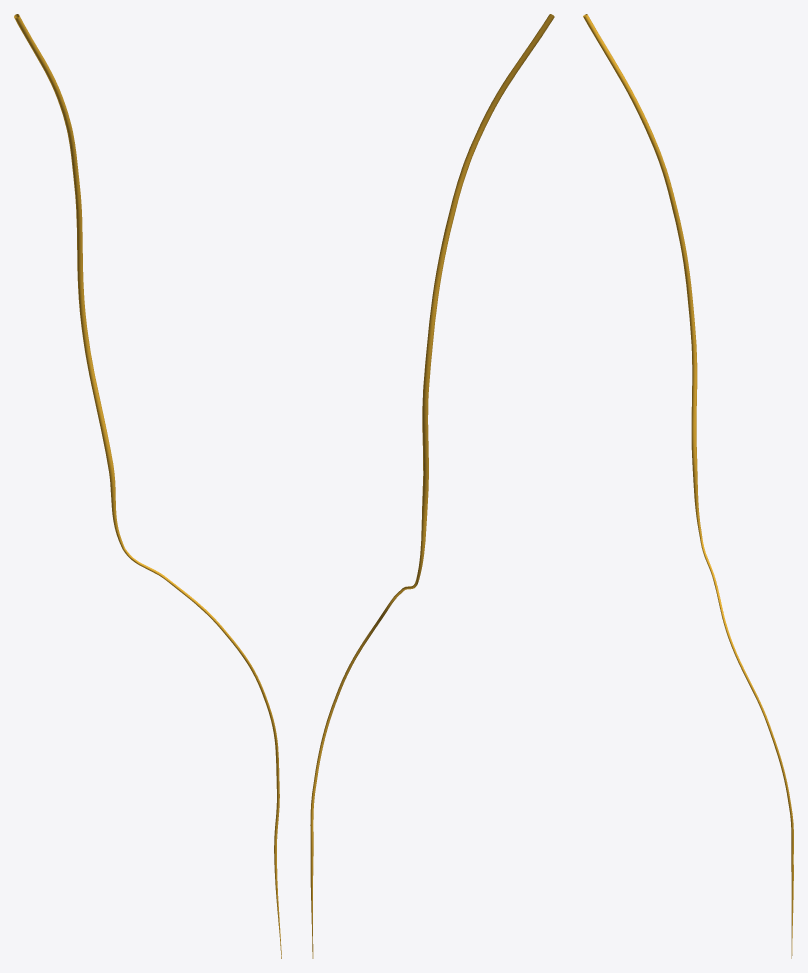
Rendered from nervoso-musculocutaneous-nerve-l.glb.
3 renders of one model, left to right at view 1: azimuth 30°, elevation 25°; view 2: azimuth 150°, elevation 25°; view 3: azimuth 330°, elevation 25°, orthographic. The views are drawn at different scales.
Parts seen in each view (by area): view 1: Musculocutaneous nerve.l, Lateral antebrachial cutaneous nerve.l; view 2: Musculocutaneous nerve.l, Lateral antebrachial cutaneous nerve.l; view 3: Musculocutaneous nerve.l, Lateral antebrachial cutaneous nerve.l.
Part boxes in pixels (bbox=[...]): Musculocutaneous nerve.l: bbox=[14, 14, 124, 548]; Lateral antebrachial cutaneous nerve.l: bbox=[122, 548, 281, 958]; Musculocutaneous nerve.l: bbox=[416, 14, 554, 580]; Lateral antebrachial cutaneous nerve.l: bbox=[310, 580, 418, 958]; Musculocutaneous nerve.l: bbox=[583, 14, 702, 538]; Lateral antebrachial cutaneous nerve.l: bbox=[700, 538, 793, 958].
Bounding box in the file's own units: 0.1009 × 0.3808 × 0.0374.
